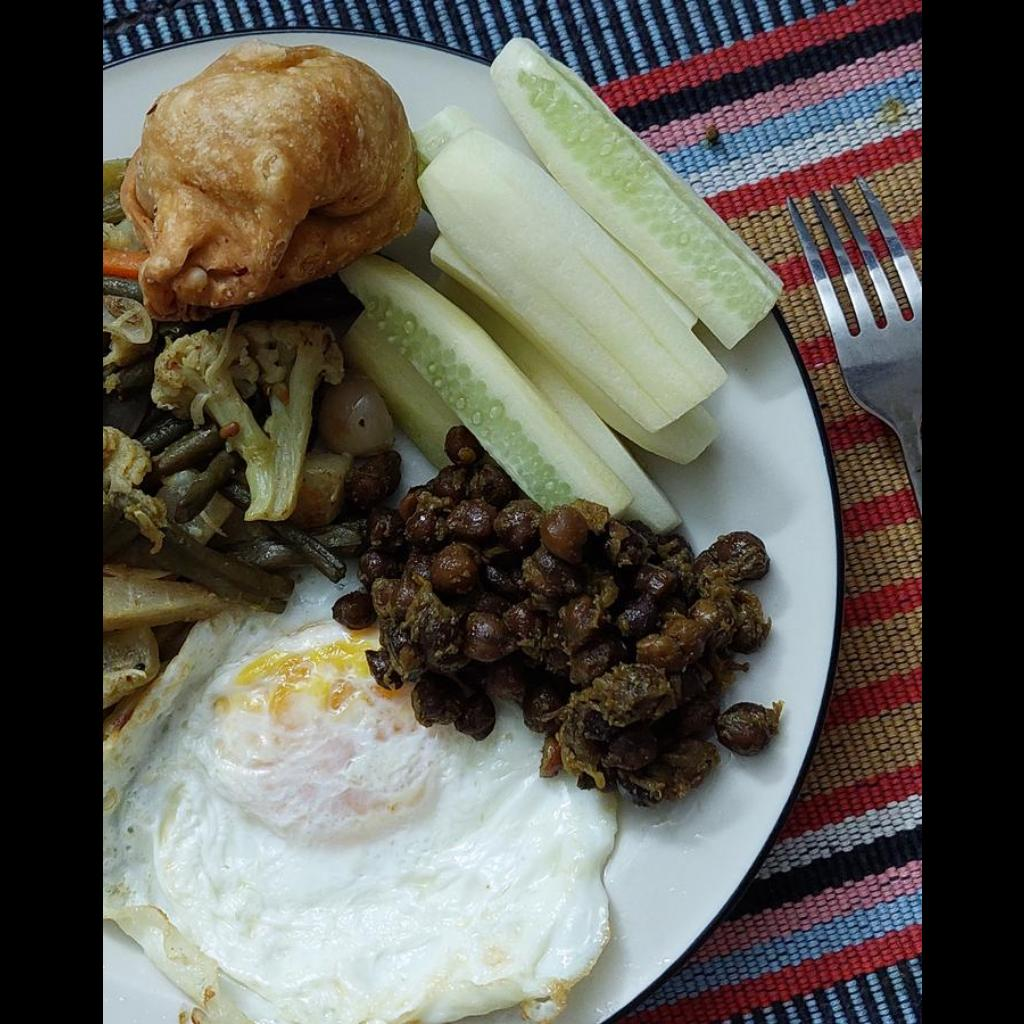chola: (345, 452, 771, 795)
cucumber: (342, 41, 781, 533)
egg-poached: (102, 585, 615, 1023)
puri: (123, 45, 429, 305)
vegetable: (102, 217, 394, 712)
